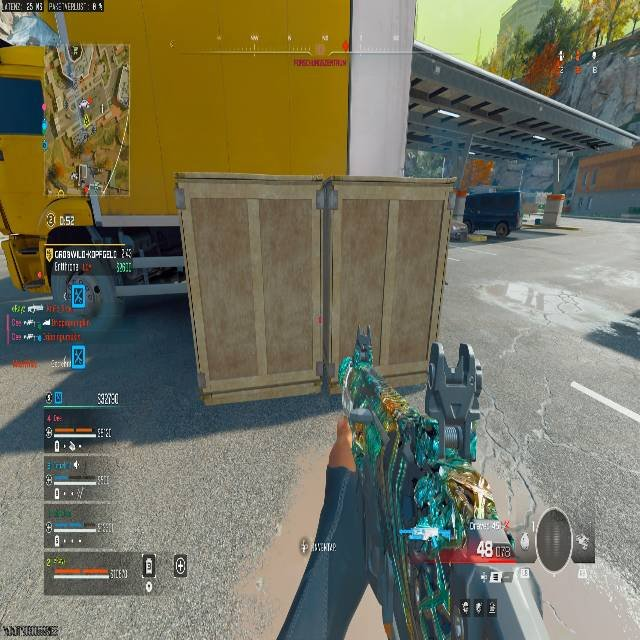player: (353, 326, 372, 362)
